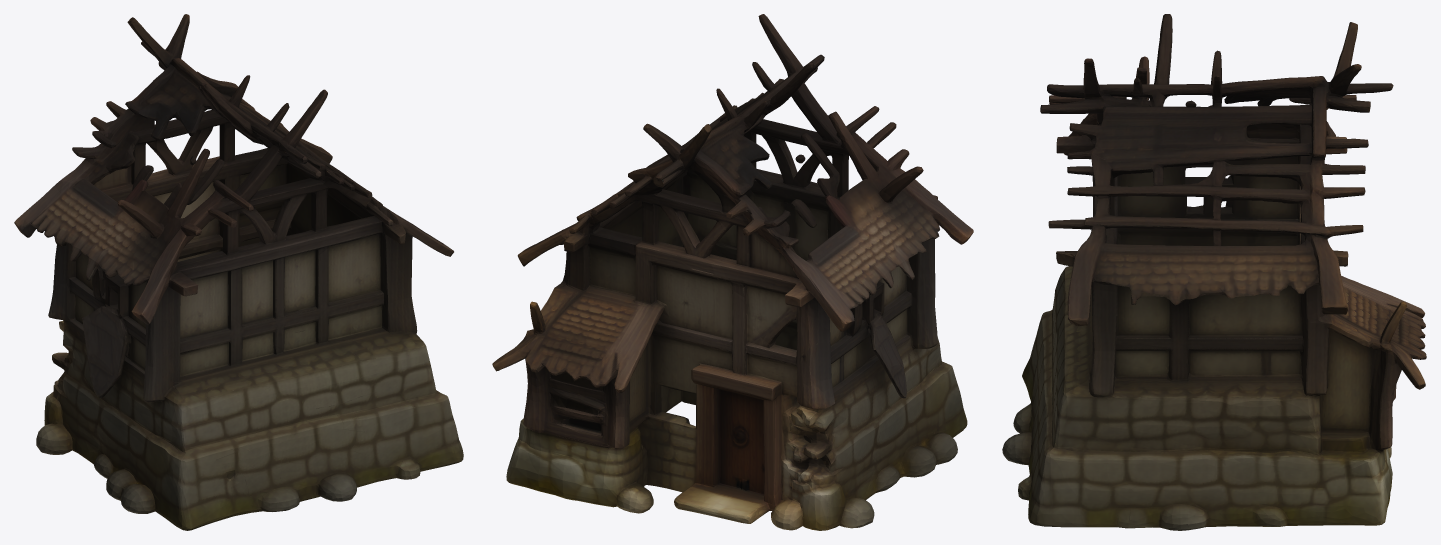
The model's file is house.glb.
The picture shows the model from 3 angles, left to right: view 1: azimuth 30°, elevation 25°; view 2: azimuth 150°, elevation 25°; view 3: azimuth 270°, elevation 25°; orthographic projection. The views are drawn at different scales.
Visible parts, largest first — view 1: geometry_0; view 2: geometry_0; view 3: geometry_0.
Part boxes in pixels (left/top/right/bottom): geometry_0: left=14, top=14, right=463, bottom=530; geometry_0: left=492, top=14, right=973, bottom=530; geometry_0: left=1002, top=14, right=1426, bottom=530.
Size of the model in its own units: 0.8737 by 0.993 by 0.9269.
1 material, 1 textured.
